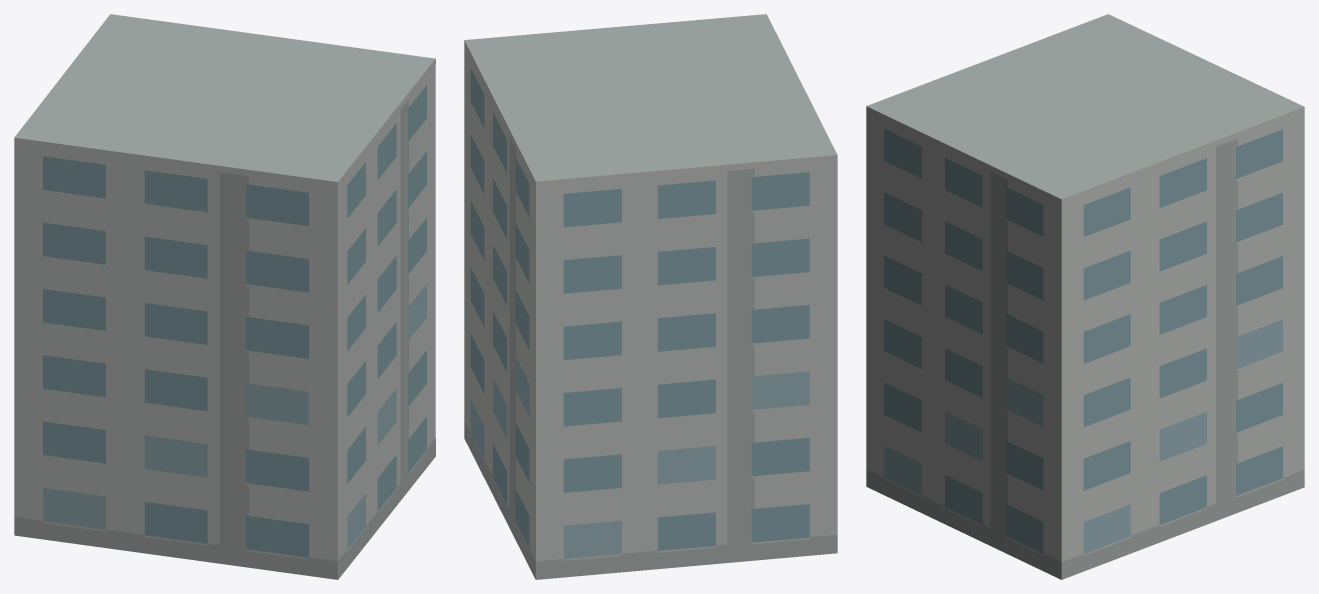
Rendered from survey-upis-32948711.glb.
3 views of the same model, side by side, from view 1: azimuth 30°, elevation 25°; view 2: azimuth 150°, elevation 25°; view 3: azimuth 270°, elevation 25° (orthographic). The views are drawn at different scales.
Parts seen in each view (by area): view 1: survey-upis-32948711.tmp; view 2: survey-upis-32948711.tmp; view 3: survey-upis-32948711.tmp.
Boxes of the visible parts, x1=… form: survey-upis-32948711.tmp: x1=14, y1=14, x2=435, y2=579; survey-upis-32948711.tmp: x1=464, y1=14, x2=837, y2=579; survey-upis-32948711.tmp: x1=866, y1=14, x2=1304, y2=579.
Size of the model in its own units: 15.78 by 15.1 by 15.77.
